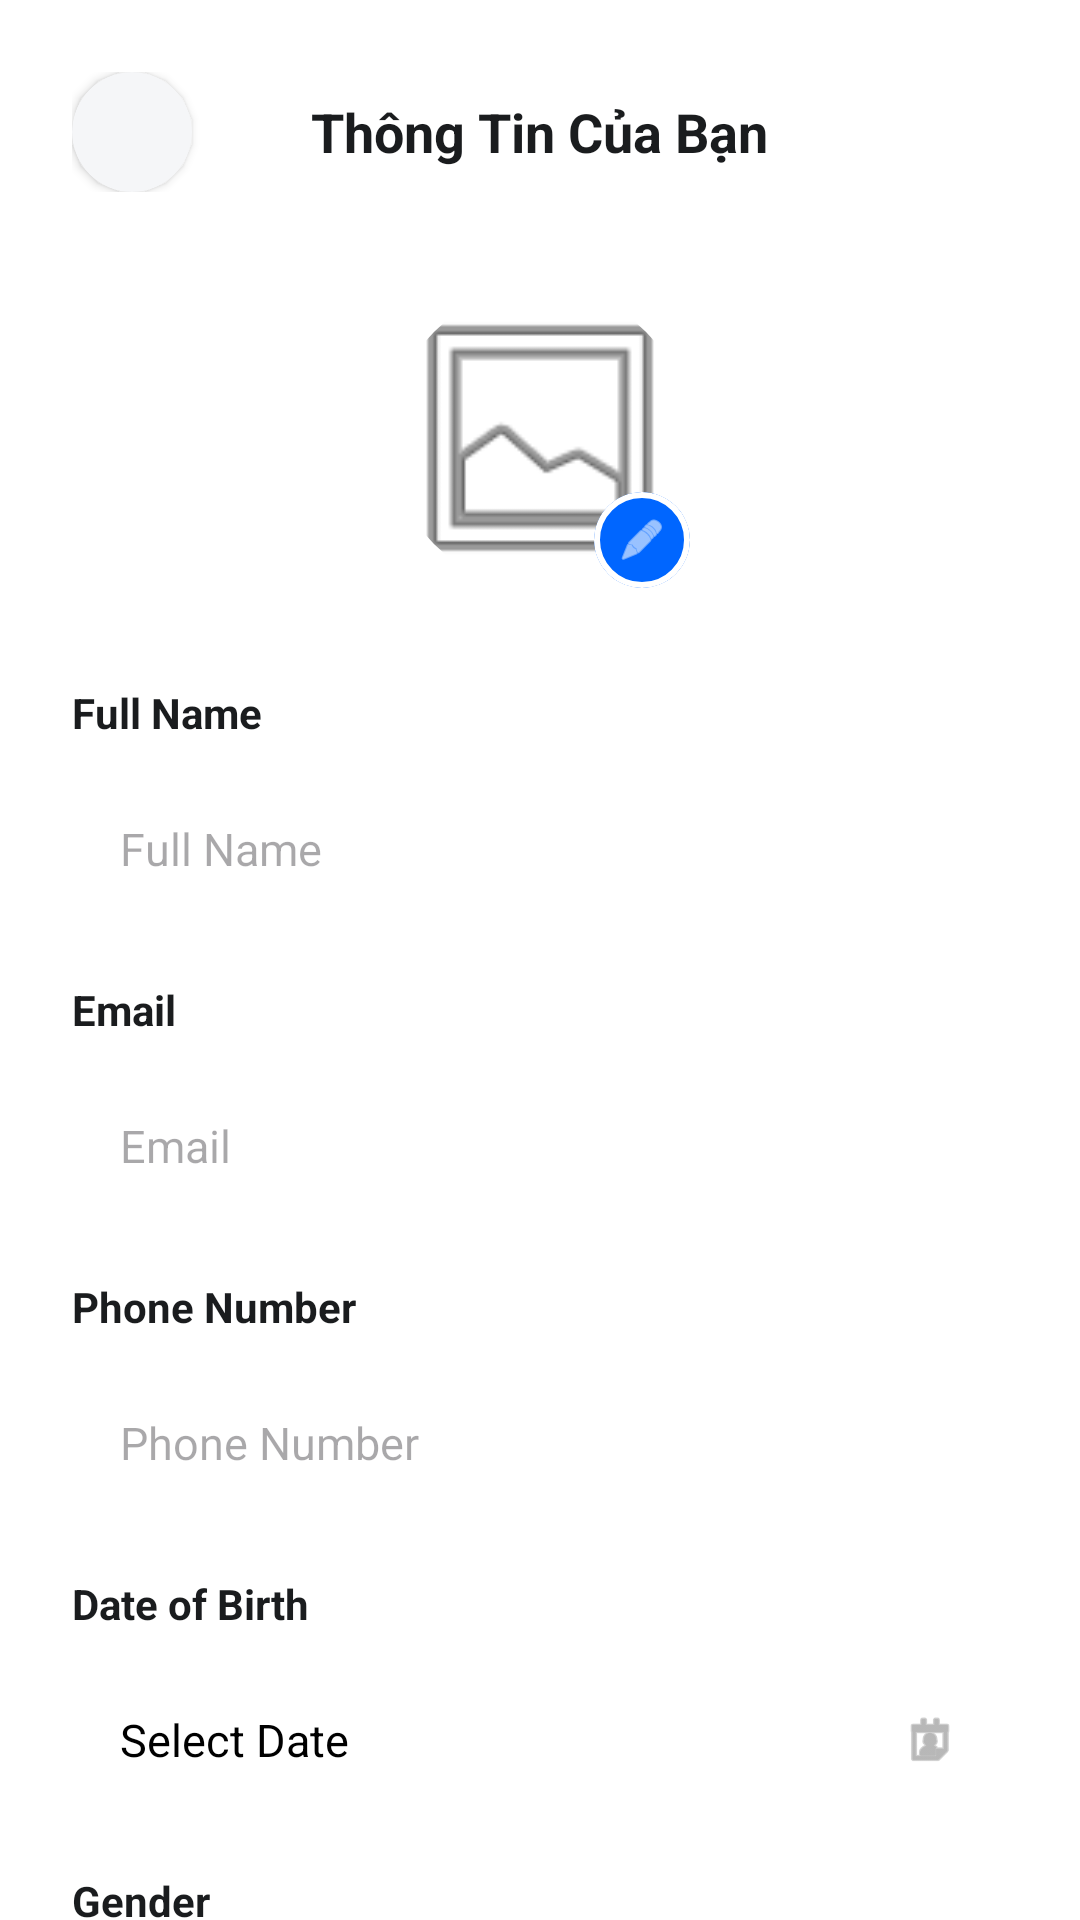

Locate icon controls on the screen. Image size 1080px x 1920px, boxes as (x1, y1, x2, y2).
calendar: (911, 1718, 949, 1761)
